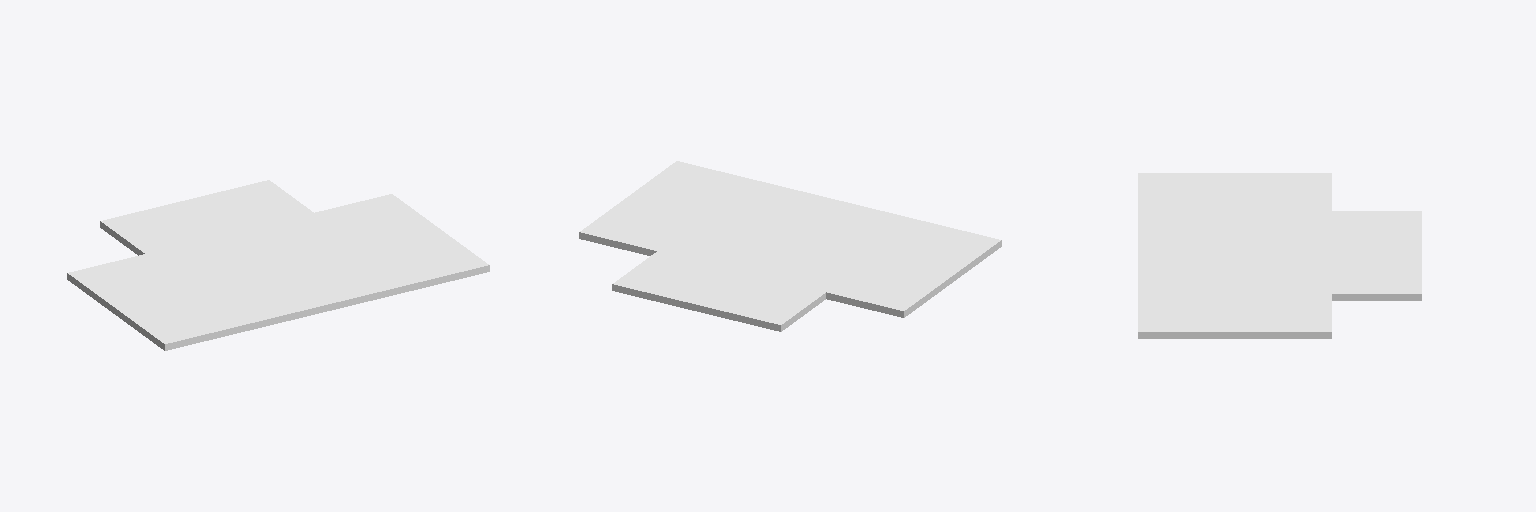
The model's file is OutsideRoadsGrey.obj.
The picture shows the model from 3 angles: view 1: azimuth 30°, elevation 25°; view 2: azimuth 150°, elevation 25°; view 3: azimuth 270°, elevation 25°; orthographic projection.
Size of the model in its own units: 50 by 1 by 38.